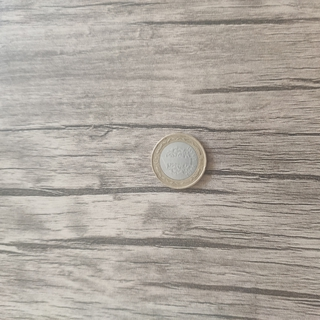1TL: (149, 130, 208, 191)
